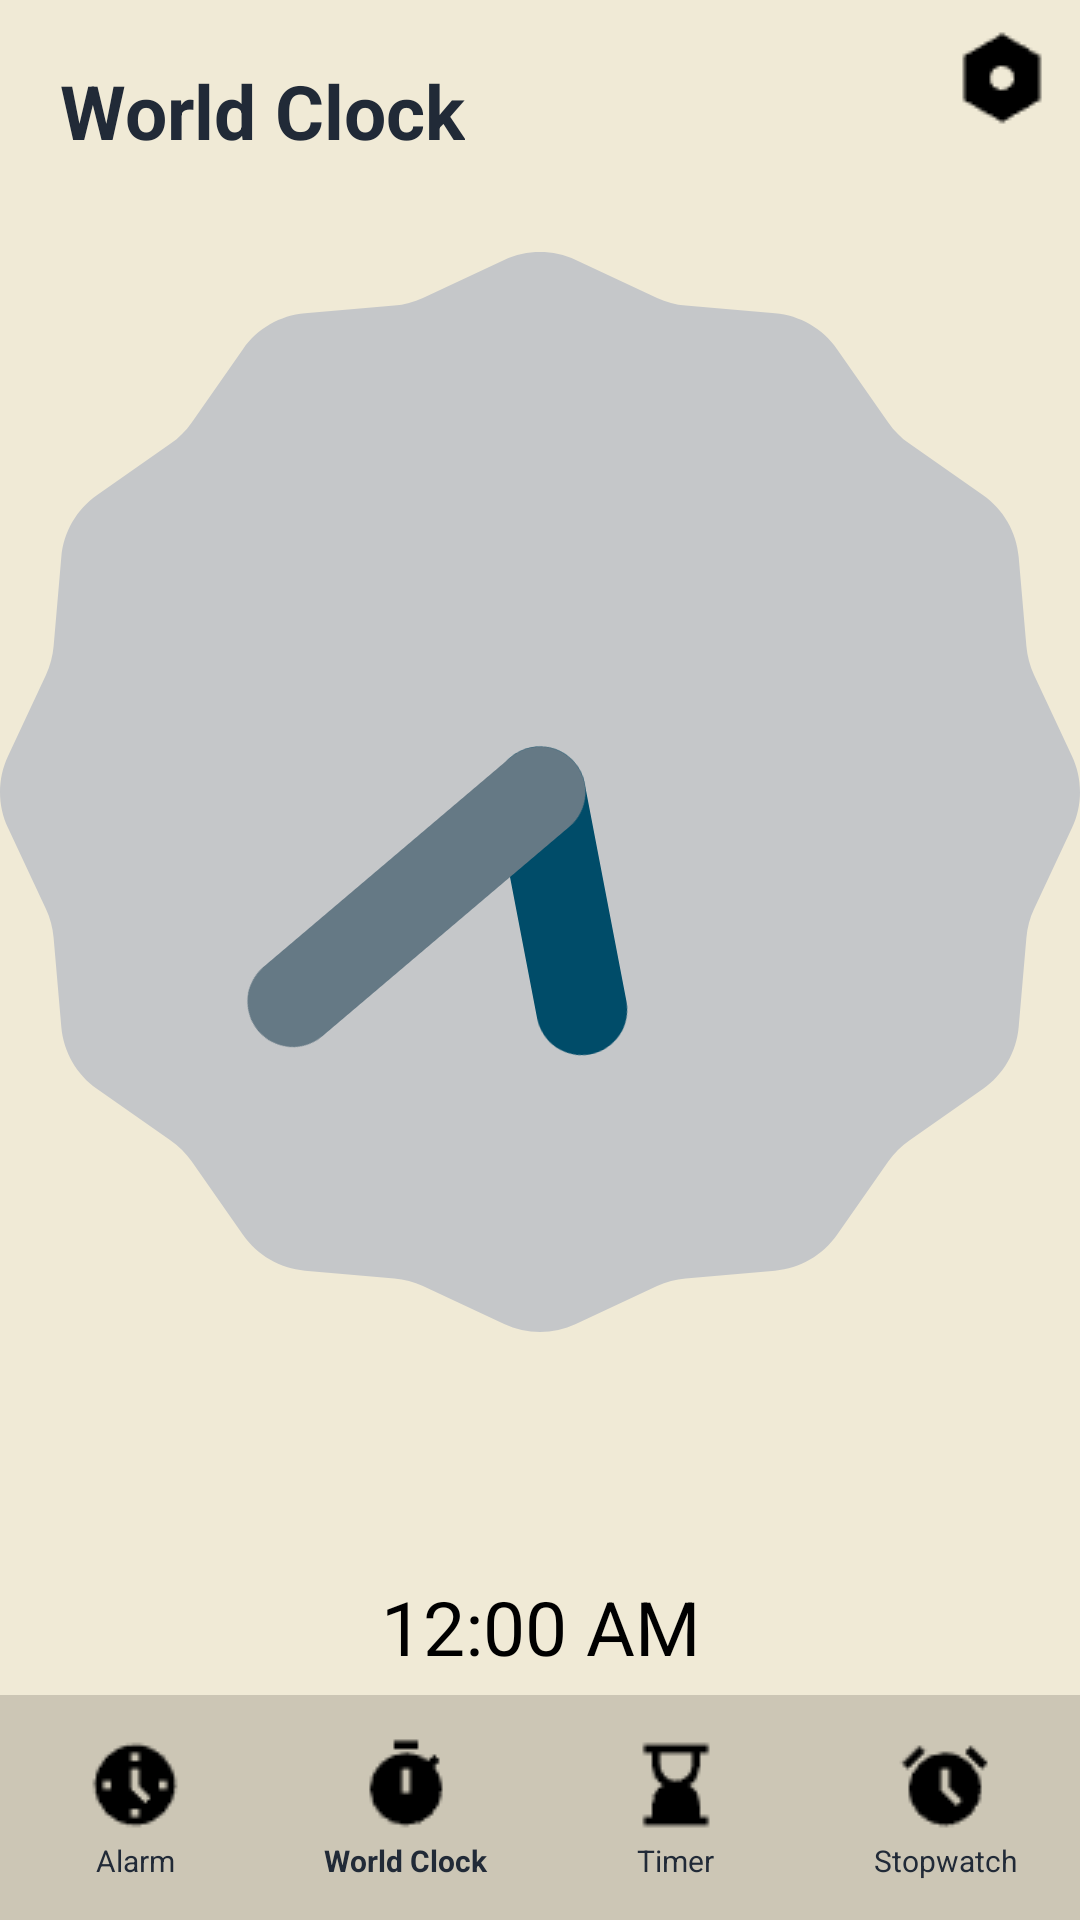

Locate icon controls on the screen. Image size 1080 x 1920, boxes as Rect(x1, y1, x2, y2).
alarm: Rect(901, 1745, 988, 1828)
settings: Rect(962, 32, 1042, 124)
stopwatch: Rect(369, 1739, 443, 1827)
